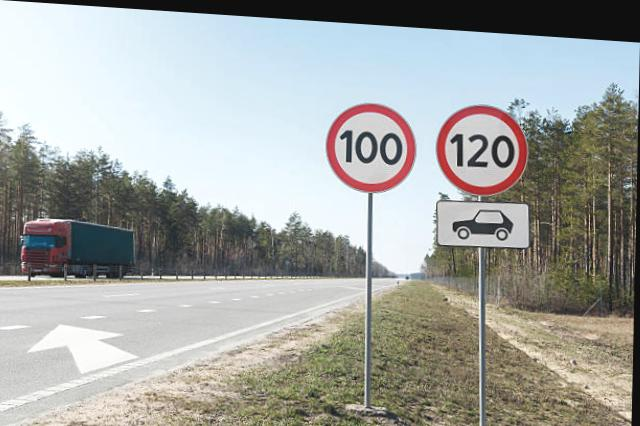limit100: (325, 97, 417, 186)
limit120: (432, 95, 530, 193)
